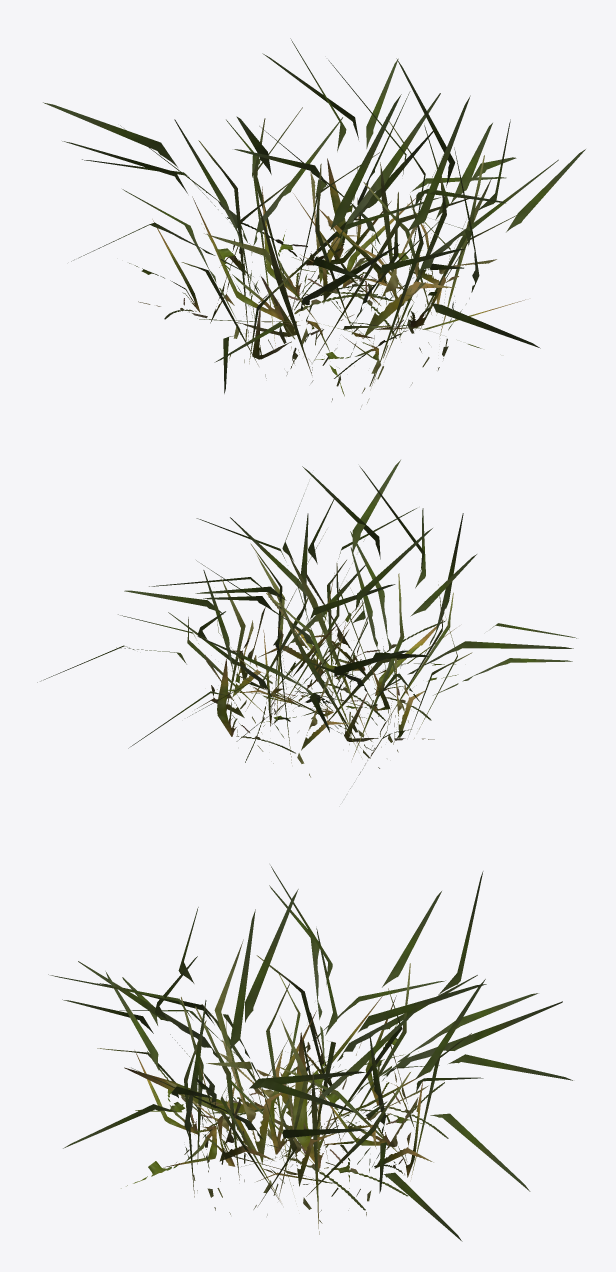
3 renders of one model, top to bottom at view 1: azimuth 30°, elevation 25°; view 2: azimuth 150°, elevation 25°; view 3: azimuth 270°, elevation 25°, orthographic. The views are drawn at different scales.
Parts seen in each view (by area): view 1: grass_medium_01__b_lod1; view 2: grass_medium_01__b_lod1; view 3: grass_medium_01__b_lod1.
Part boxes in pixels (box(x1,y1,x2,y2)): grass_medium_01__b_lod1: box(43, 38, 585, 409); grass_medium_01__b_lod1: box(37, 460, 576, 788); grass_medium_01__b_lod1: box(48, 865, 572, 1241).
Bounding box in the file's own units: 0.332 × 0.177 × 0.2955.
Materials: 1 (1 with a texture image).
